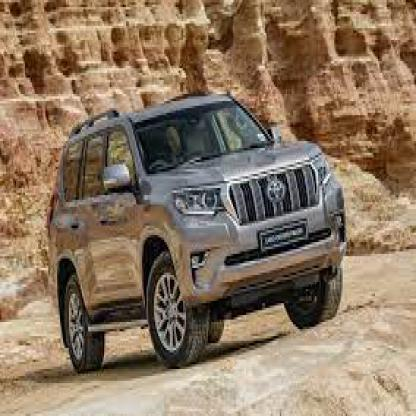jeep: (50, 89, 347, 372)
